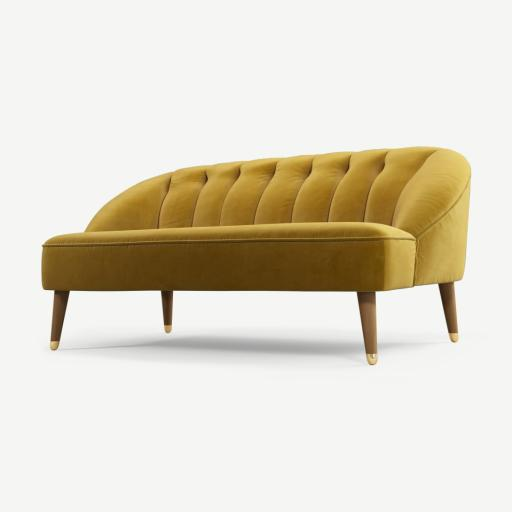back_cushion: (158, 148, 440, 228)
left_arm: (390, 149, 470, 283)
legs: (358, 292, 376, 364), (50, 291, 69, 350), (439, 282, 456, 341), (161, 291, 172, 332)
one-seater: (42, 147, 470, 364)
right_arm: (86, 173, 172, 231)
seat_cushion: (43, 222, 416, 290)
